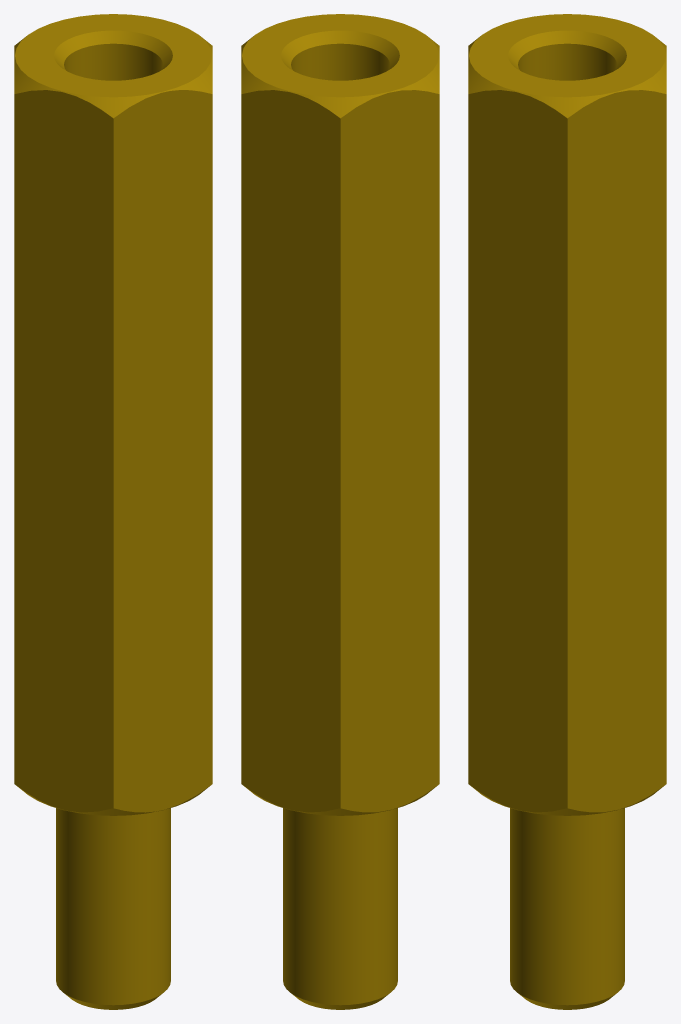
Rendered from M3_M_TO_F_20MM_STANDOFF.glb.
3 renders of one model, left to right at view 1: azimuth 30°, elevation 25°; view 2: azimuth 150°, elevation 25°; view 3: azimuth 270°, elevation 25°, orthographic.
Parts seen in each view (by area): view 1: M3_M_TO_F_20MM_STANDOFF; view 2: M3_M_TO_F_20MM_STANDOFF; view 3: M3_M_TO_F_20MM_STANDOFF.
Part boxes in pixels (left/top/right/bottom): M3_M_TO_F_20MM_STANDOFF: left=14, top=14, right=212, bottom=1009; M3_M_TO_F_20MM_STANDOFF: left=241, top=14, right=439, bottom=1009; M3_M_TO_F_20MM_STANDOFF: left=468, top=14, right=666, bottom=1009.
Bounding box in the file's own units: 0.00577 × 0.026 × 0.005.
